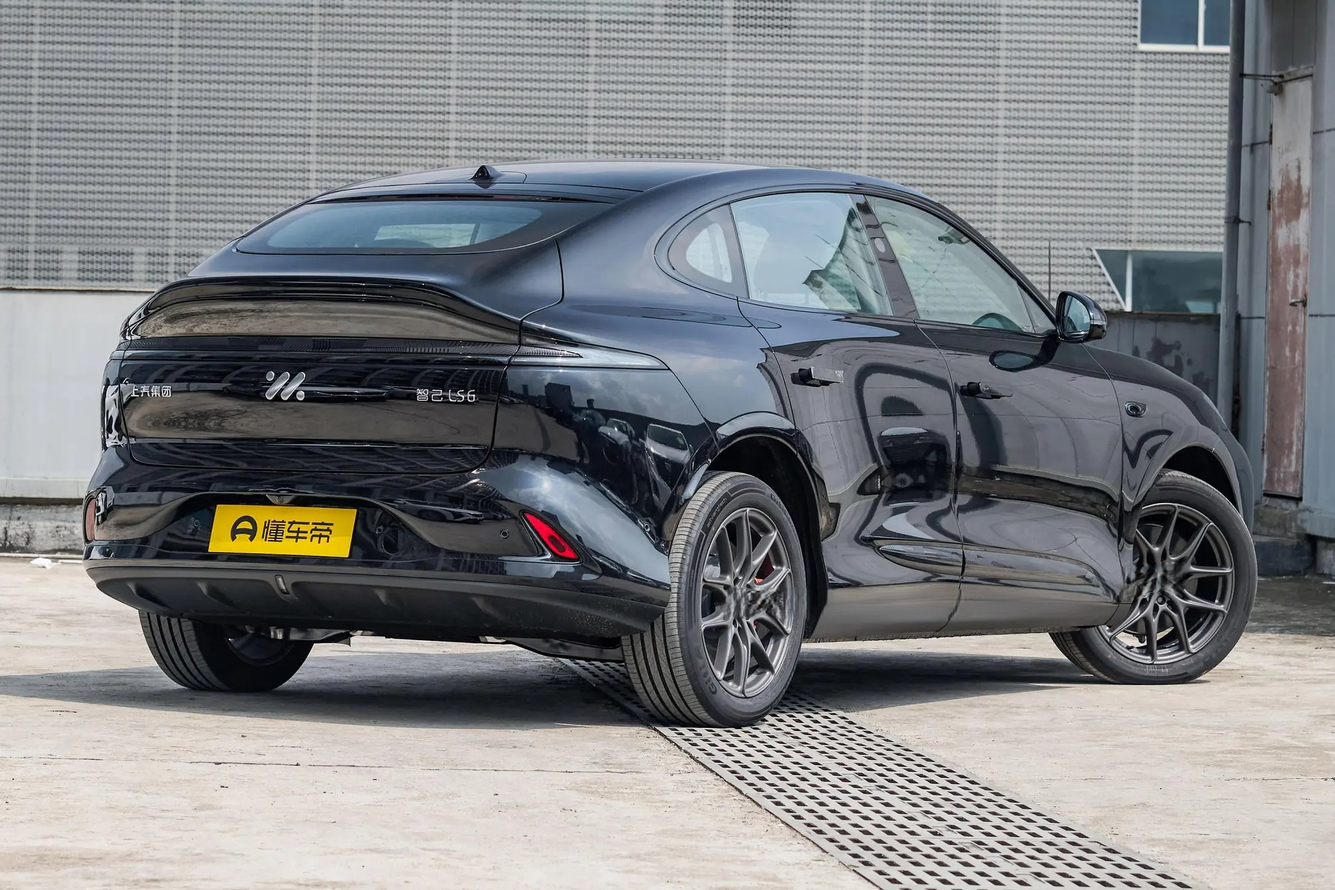IM: (265, 372, 305, 400)
